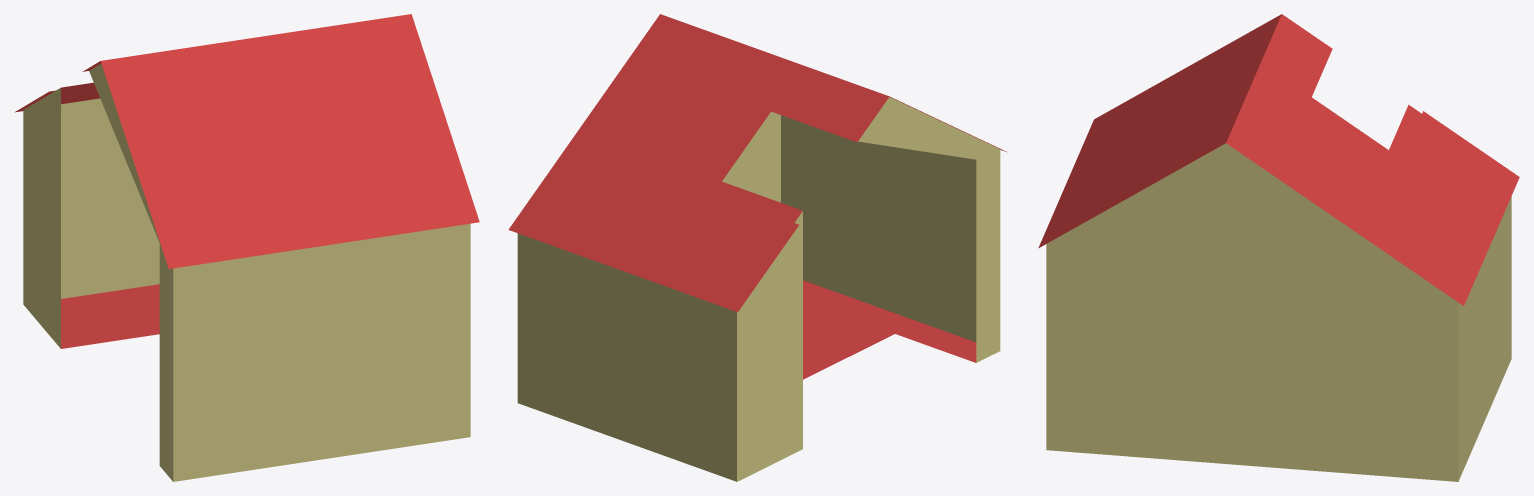
3 renders of one model, left to right at view 1: azimuth 30°, elevation 25°; view 2: azimuth 150°, elevation 25°; view 3: azimuth 270°, elevation 25°, orthographic. The views are drawn at different scales.
Bounding box in the file's own units: 13.94 × 17.51 × 12.99.
